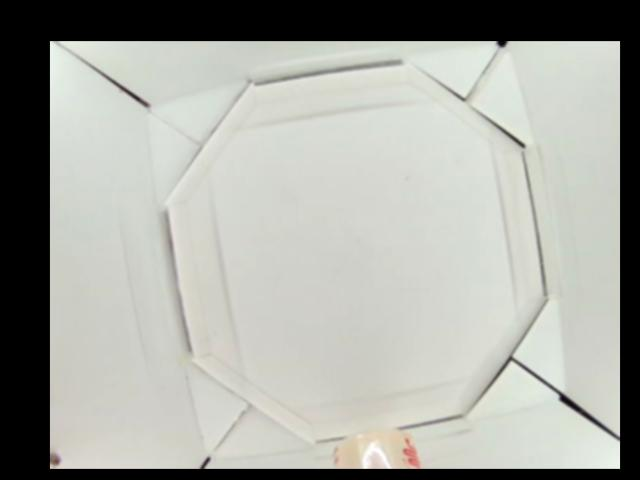Bottle: (332, 427, 419, 468)
